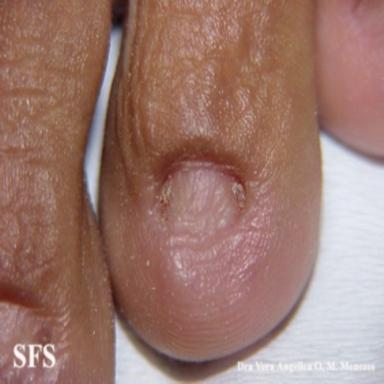Epidermolysis-Bullosa-Pruriginosa: (160, 162, 245, 235)
